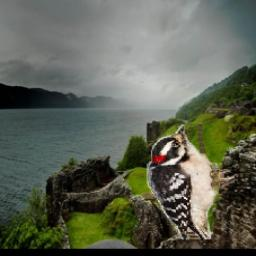Woodpecker: (147, 125, 235, 240)
